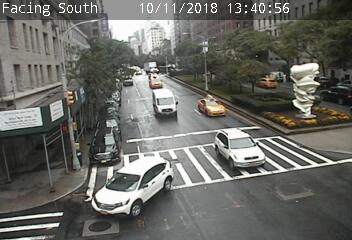car: (92, 157, 173, 216), (214, 128, 266, 170), (90, 128, 120, 163), (153, 88, 176, 117), (320, 84, 352, 104), (197, 98, 226, 116), (254, 77, 277, 89), (149, 78, 162, 89)
